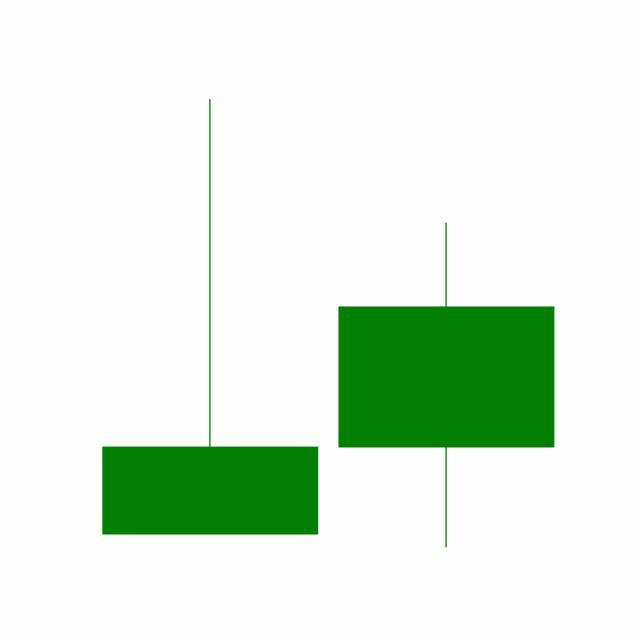Marubozu: (328, 220, 566, 552)
